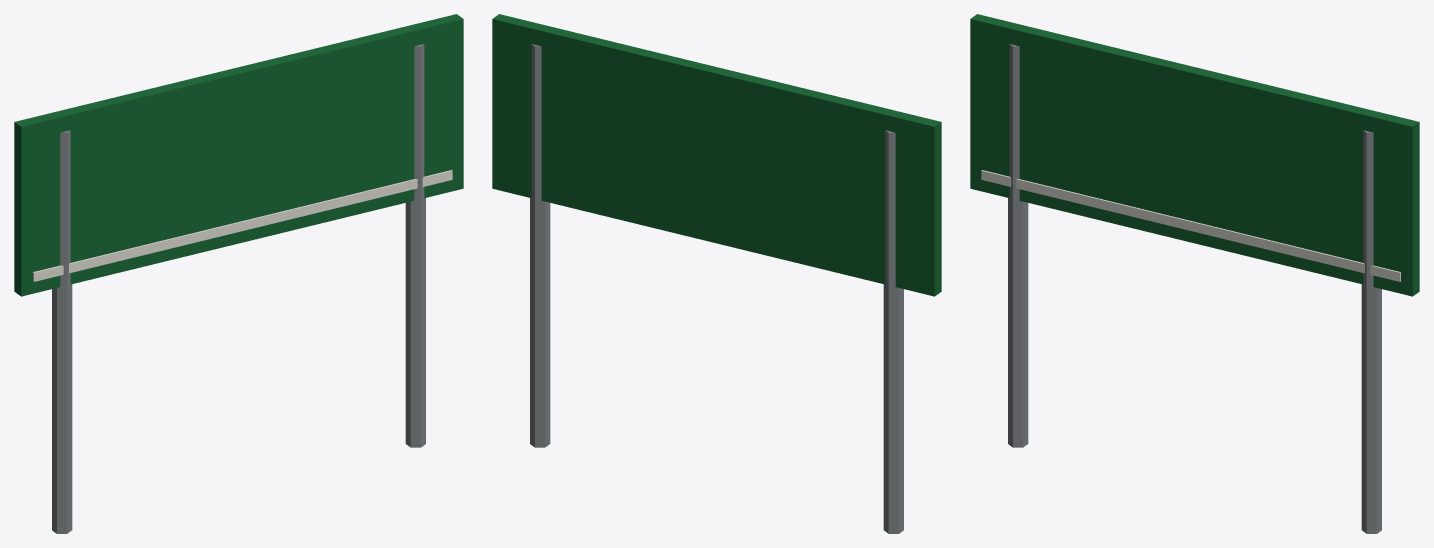
File: placa_estrada.glb
3 views of the same model, side by side, from view 1: azimuth 30°, elevation 25°; view 2: azimuth 150°, elevation 25°; view 3: azimuth 330°, elevation 25° (orthographic).
Parts seen in each view (by area): view 1: placa_estrada; view 2: placa_estrada; view 3: placa_estrada.
Boxes of the visible parts, x1=… form: placa_estrada: x1=14, y1=14, x2=463, y2=533; placa_estrada: x1=492, y1=14, x2=941, y2=533; placa_estrada: x1=970, y1=14, x2=1419, y2=533.
Size of the model in its own units: 3 by 2.7 by 0.12.
